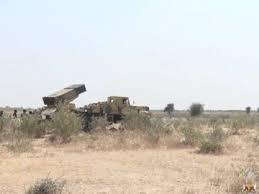MIL_SAM_TEL: (41, 83, 149, 126)
